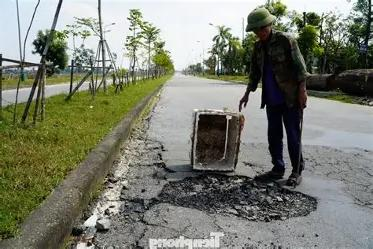ROAD_OBSTACLE: (153, 165, 318, 222), (191, 104, 245, 168), (113, 135, 163, 185)
